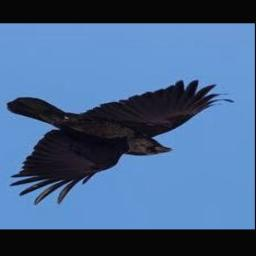Crow: (5, 81, 234, 205)
